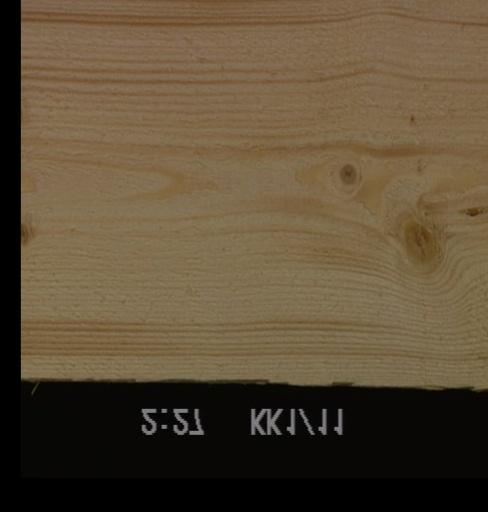sound_knot: (397, 219, 441, 266), (334, 158, 359, 192), (20, 220, 33, 249)
